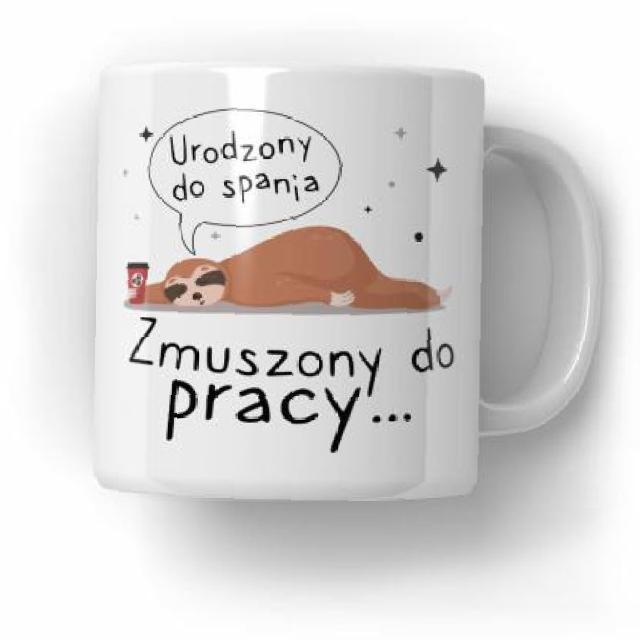cup: (87, 55, 613, 509)
